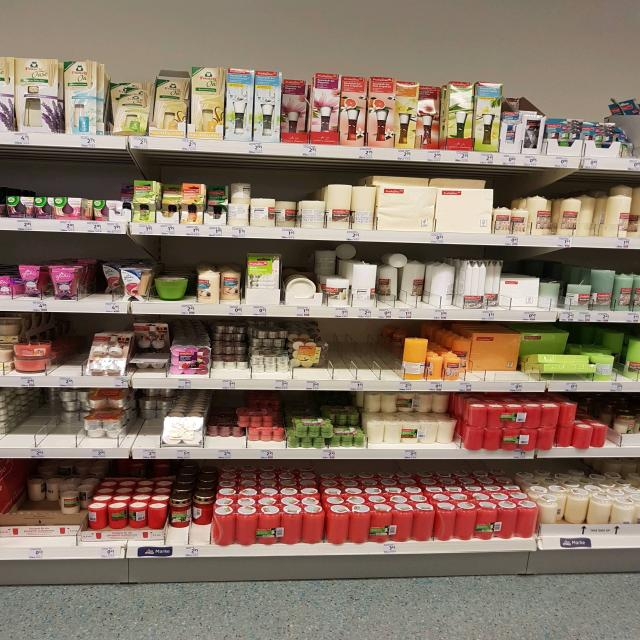void: (337, 322, 392, 390), (5, 390, 54, 448), (52, 312, 86, 390), (5, 475, 28, 560)
